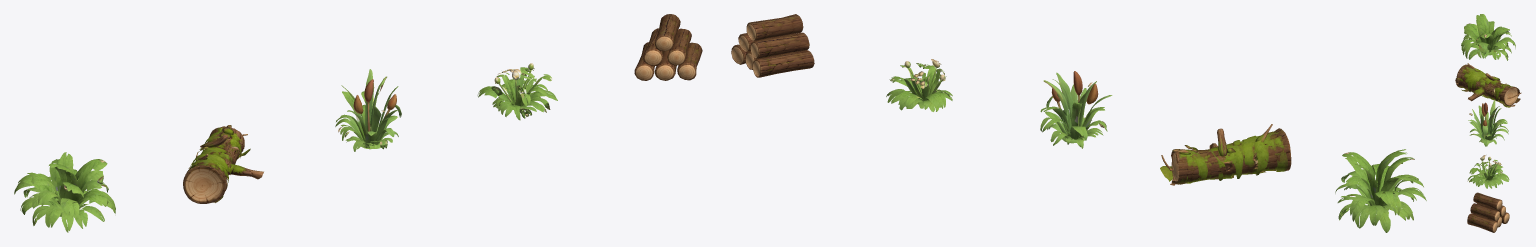
Rendered from bosque_flora.glb.
The picture shows the model from 3 angles, left to right: view 1: azimuth 30°, elevation 25°; view 2: azimuth 150°, elevation 25°; view 3: azimuth 270°, elevation 25°; orthographic projection. The views are drawn at different scales.
Parts seen in each view (by area): view 1: helecho, tronco_musgoso, troncos_apilados, canas, flores_blancas; view 2: tronco_musgoso, helecho, troncos_apilados, canas, flores_blancas; view 3: helecho, tronco_musgoso, troncos_apilados, canas, flores_blancas.
Part boxes in pixels (x1,y1,x2,y2): helecho: (14, 152, 115, 232); tronco_musgoso: (183, 125, 263, 203); troncos_apilados: (634, 14, 702, 80); canas: (335, 69, 401, 151); flores_blancas: (477, 63, 557, 120); tronco_musgoso: (1160, 124, 1291, 185); helecho: (1335, 149, 1426, 232); troncos_apilados: (731, 14, 814, 77); canas: (1040, 71, 1112, 148); flores_blancas: (886, 59, 952, 111); helecho: (1461, 14, 1515, 60); tronco_musgoso: (1455, 63, 1521, 107); troncos_apilados: (1467, 192, 1509, 232); canas: (1468, 100, 1508, 146); flores_blancas: (1467, 155, 1509, 188).
Size of the model in its own units: 3.6 by 0.338 by 0.5318.
Materials: 1 (1 with a texture image).
